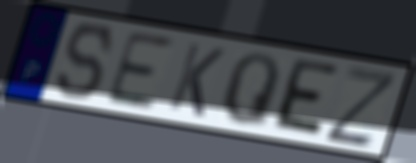E: (101, 28, 177, 113), (267, 56, 343, 141)
K: (165, 39, 229, 120)
Q: (218, 51, 283, 132)
S: (54, 21, 117, 103)
Z: (321, 63, 402, 151)
